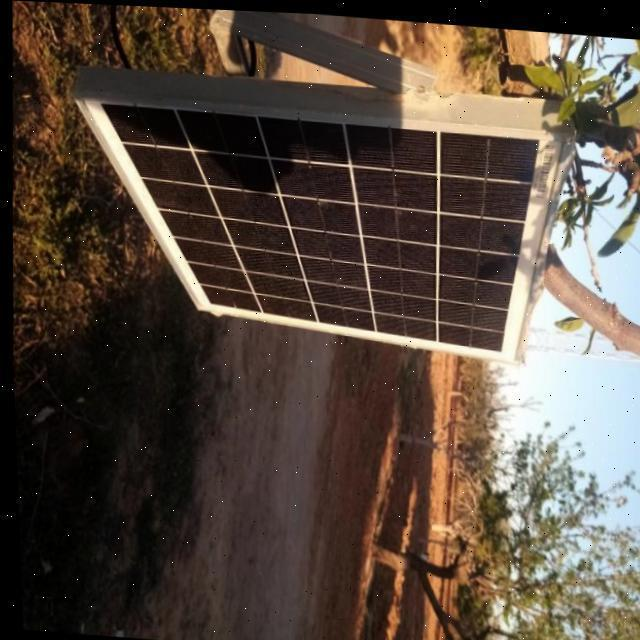Normal Solar Panel: (63, 93, 575, 362)
